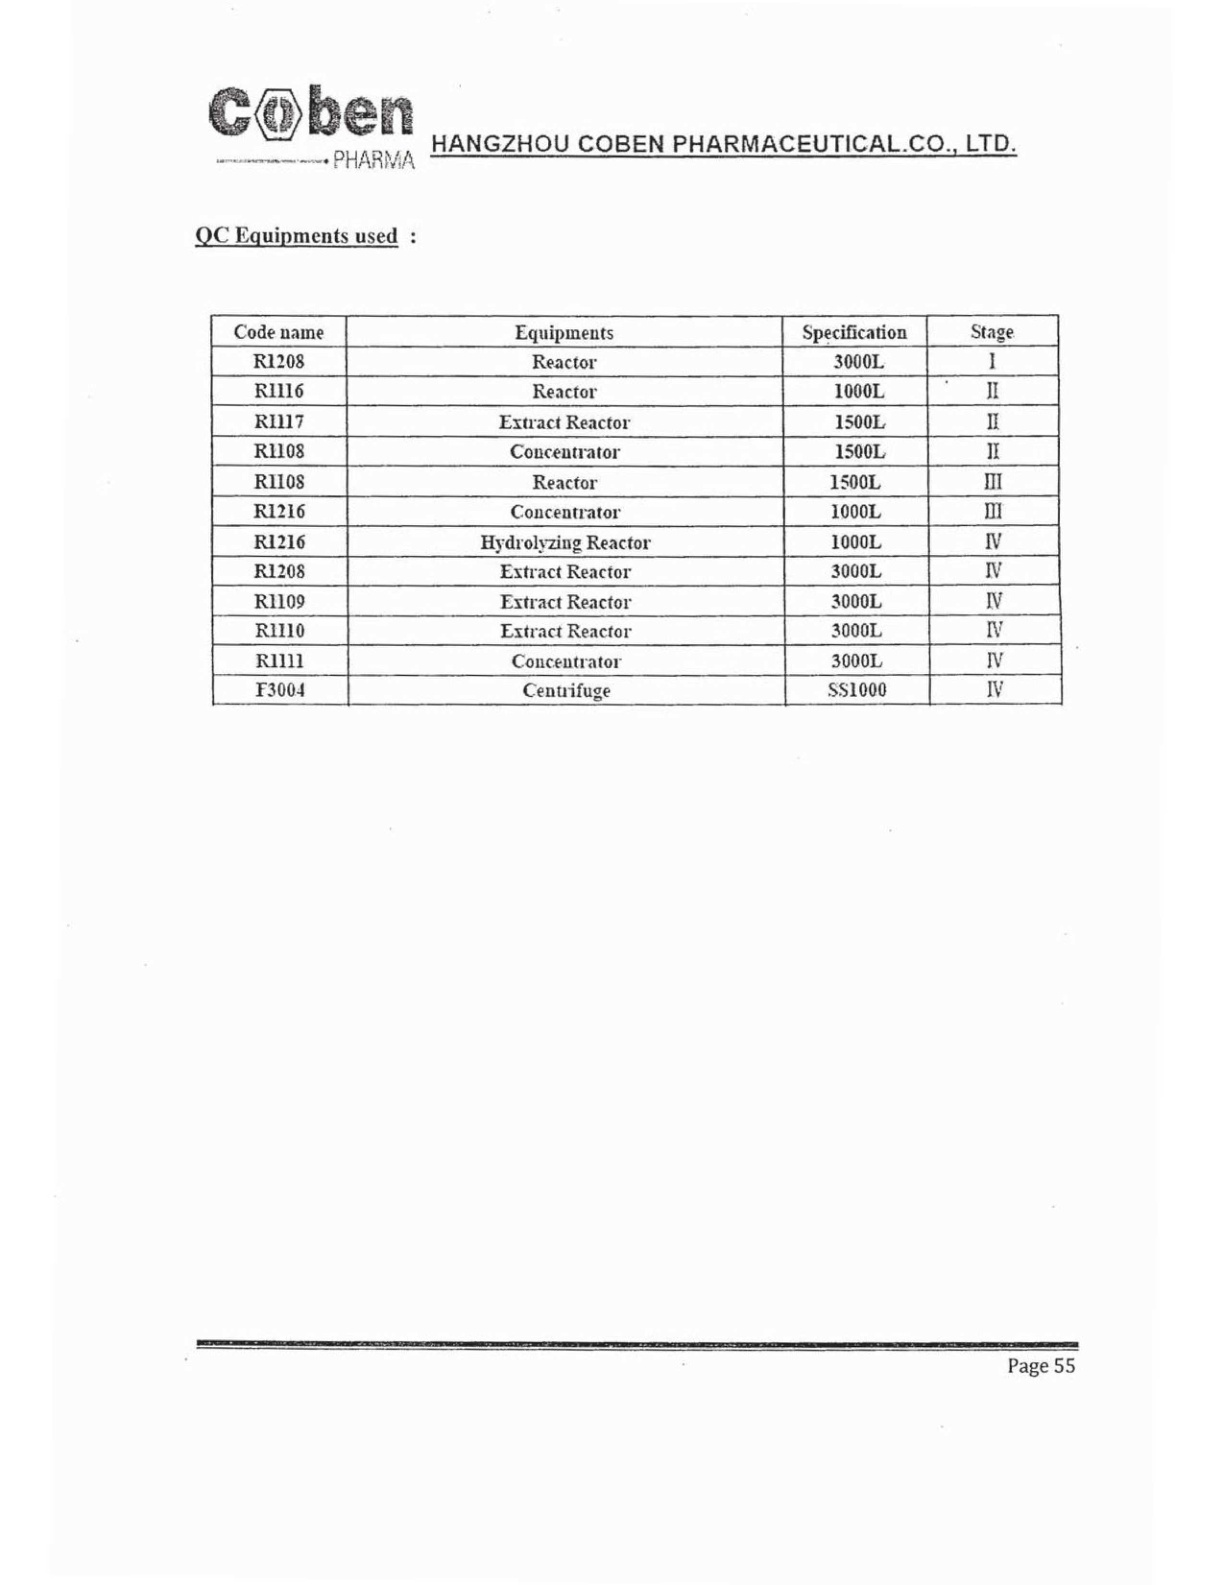full_lined: (208, 311, 1066, 708)
